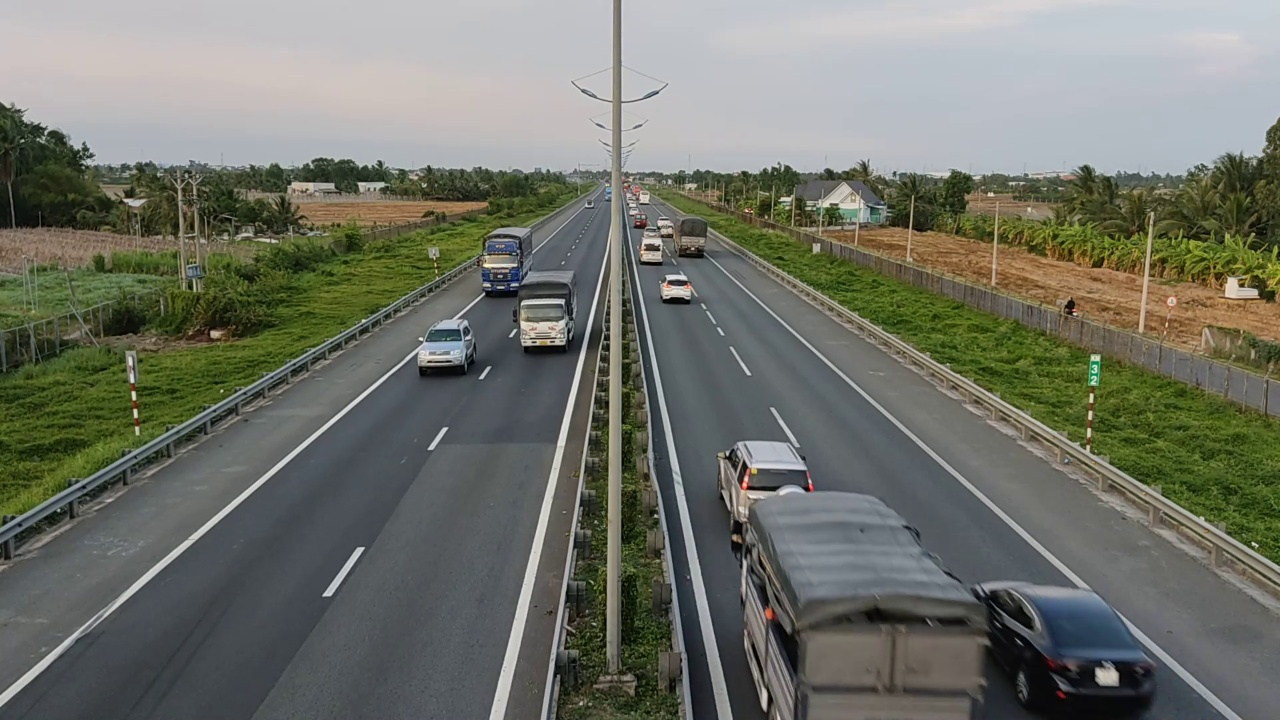car: (971, 579, 1159, 715), (417, 317, 477, 377), (659, 273, 693, 304)
truck: (737, 487, 992, 717), (515, 267, 579, 353), (479, 225, 535, 295), (673, 215, 709, 257)
